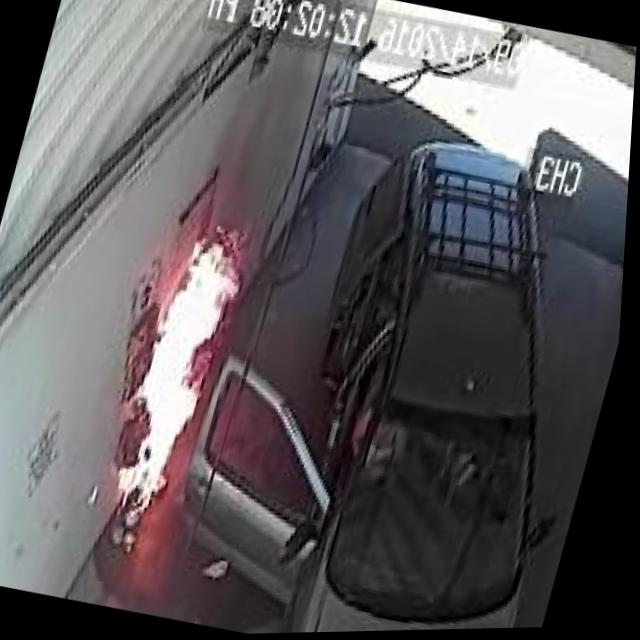fire: (97, 210, 266, 518)
